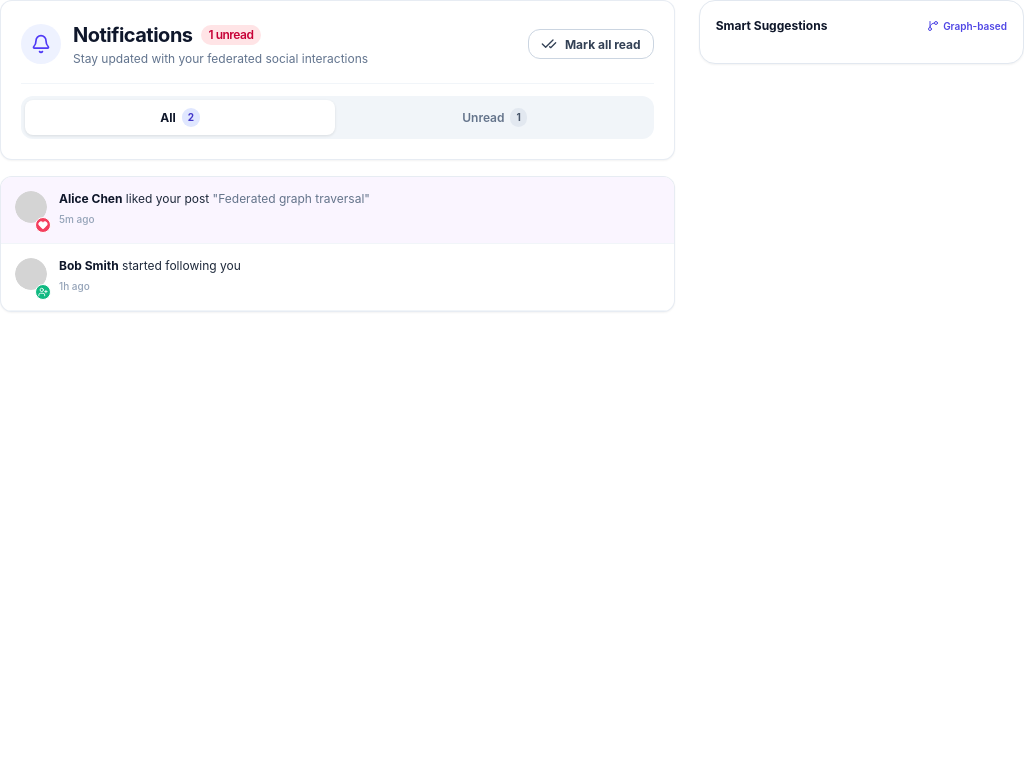
Test: NotificationsPage Component › opens PostDetailModal and marks notification as read when clicking a notification with targetResourceId
Click the button with test id "notification-item-notif-1" at (31, 207), box [1,177,674,244]
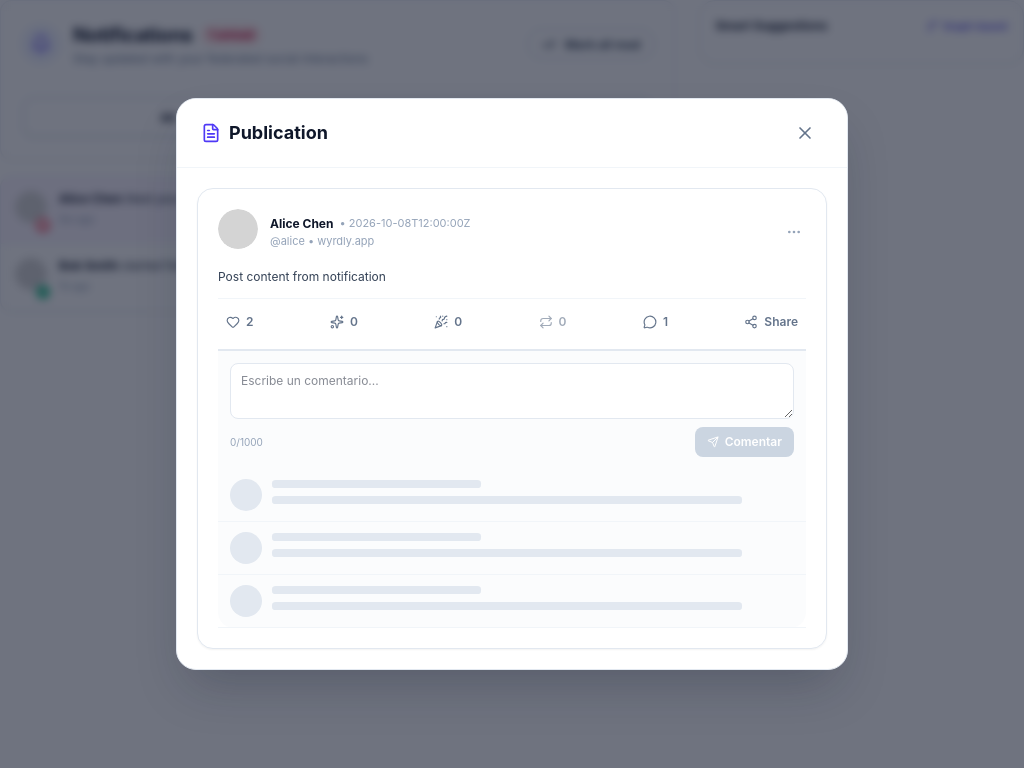
Expected: the dialog with test id "post-detail-modal" is shown, [176,98,848,670]
Expected: the text "Post content from notification" is shown, [218,269,386,284]
Close the modal
Click the button with test id "post-detail-modal-close" at (805, 133), box [787,115,823,151]
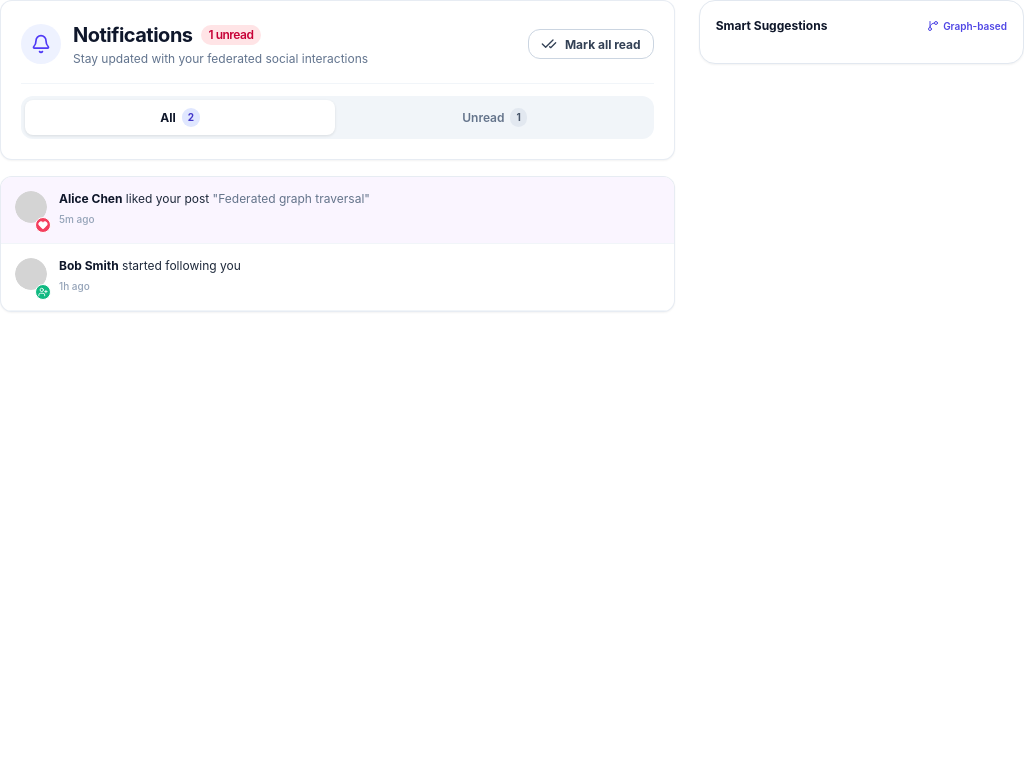
Expected: the dialog with test id "post-detail-modal" is gone
